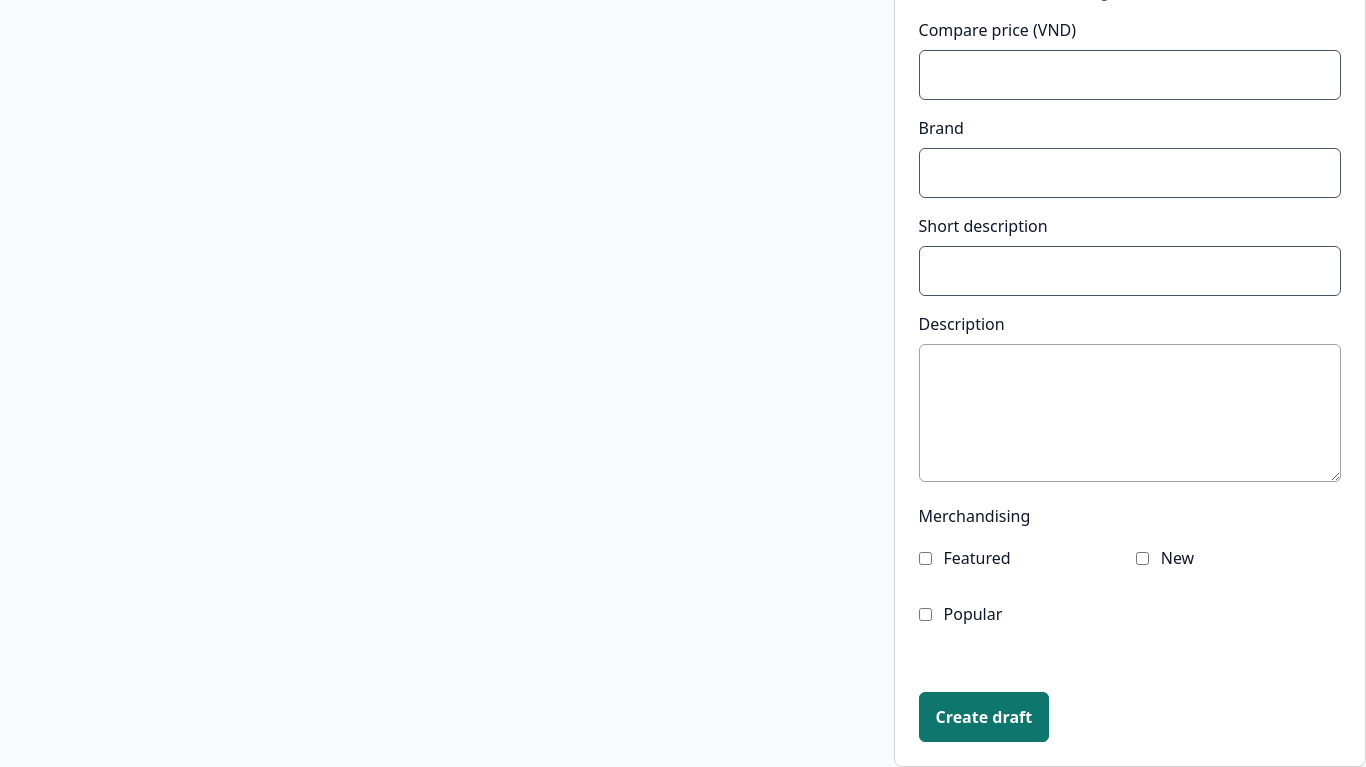
Test case: admin product manager › covers empty state, validation, and exact-price draft creation
(page scrolled)
Click the button "Create draft" at coordinates (984, 717), box [918,692,1049,742]
(page scrolled)
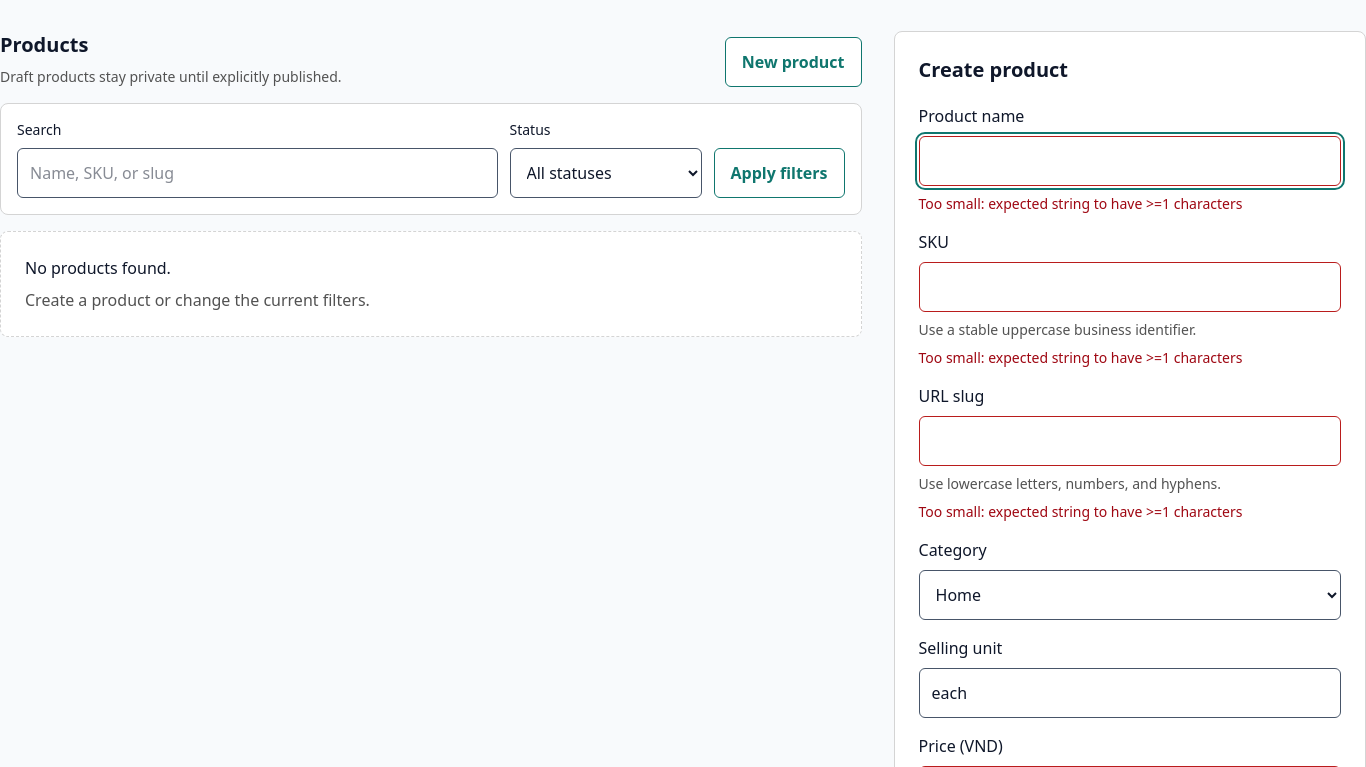
Type "Desk lamp" into the field labelled "Product name" at coordinates (1130, 161), box [918,136,1341,186]
Type "MHB-OPS-001" into the field labelled "SKU" at coordinates (1130, 287), box [918,262,1341,312]
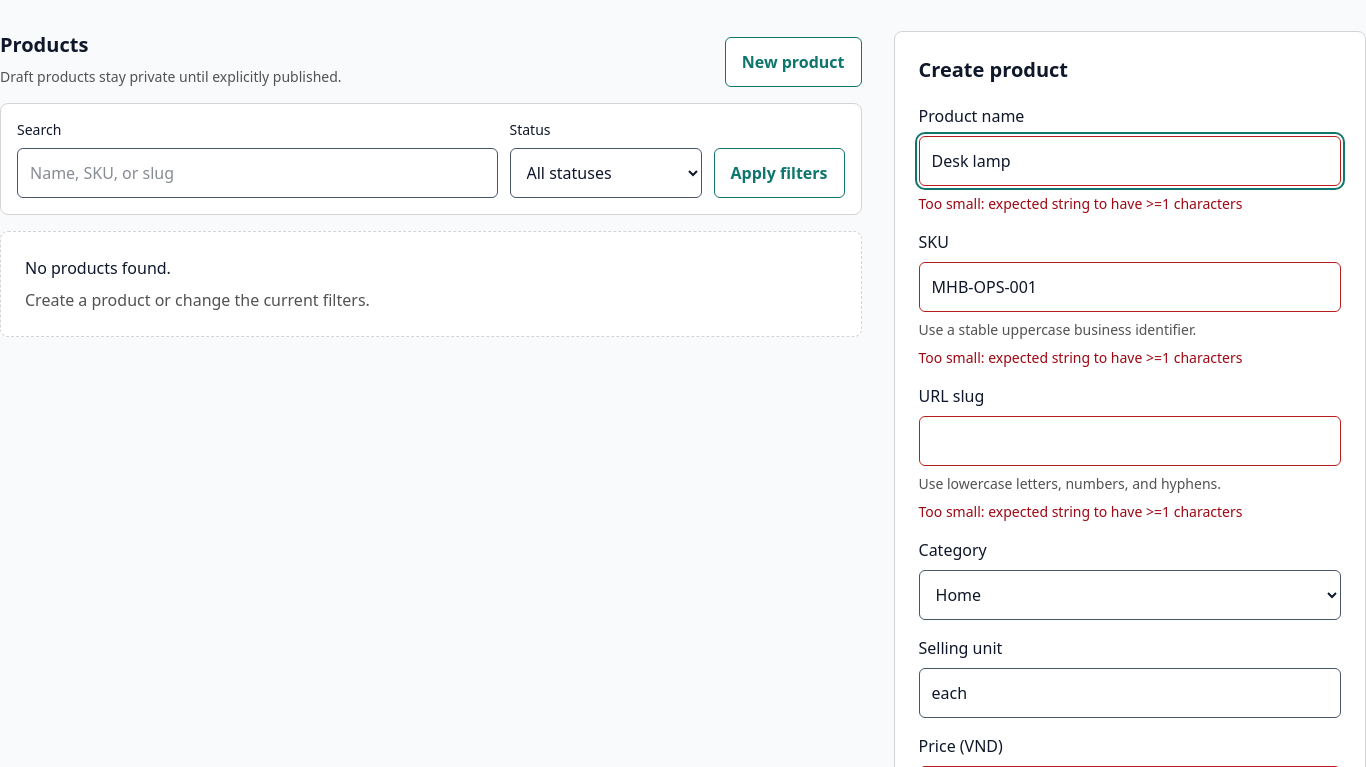
Type "desk-lamp" into the field labelled "URL slug" at coordinates (1130, 441), box [918,416,1341,466]
(page scrolled)
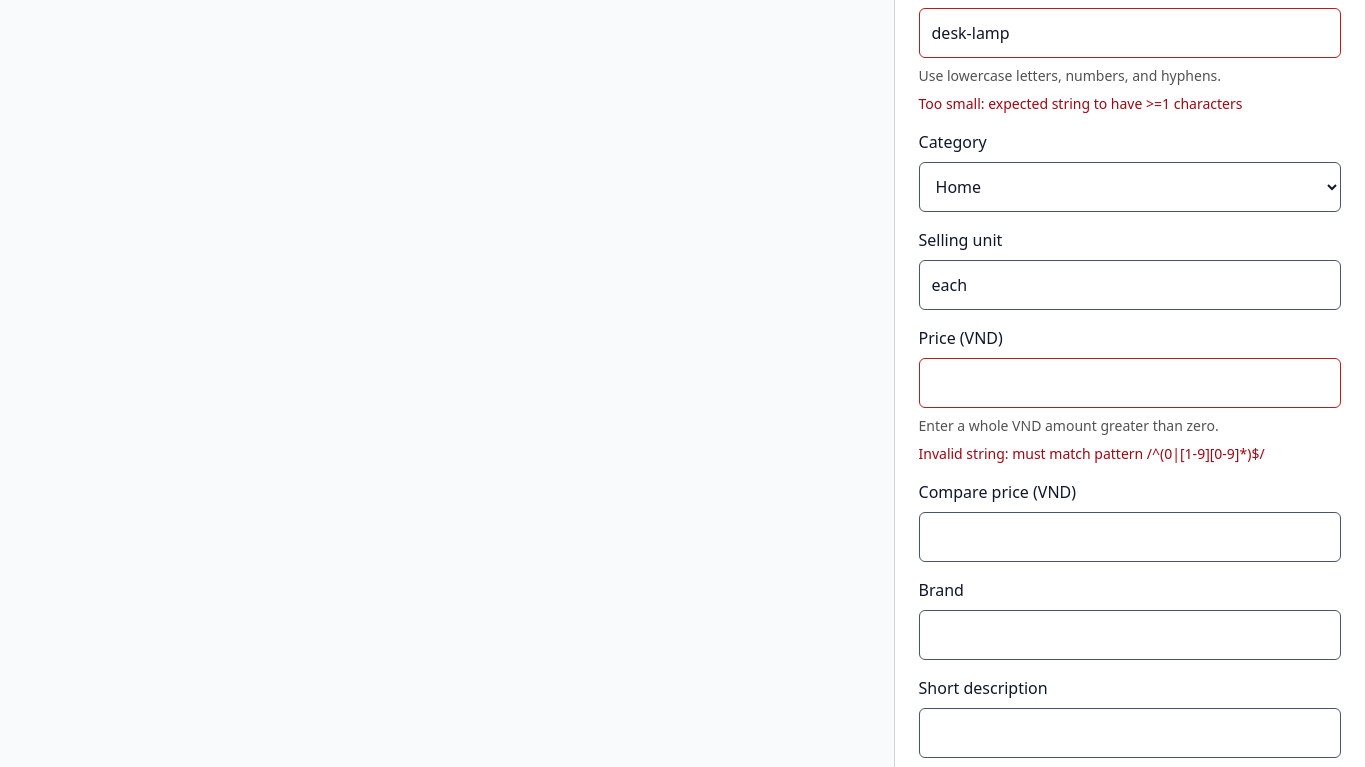
Type "349000" into the field labelled "Price (VND)" at coordinates (1130, 383), box [918,358,1341,408]
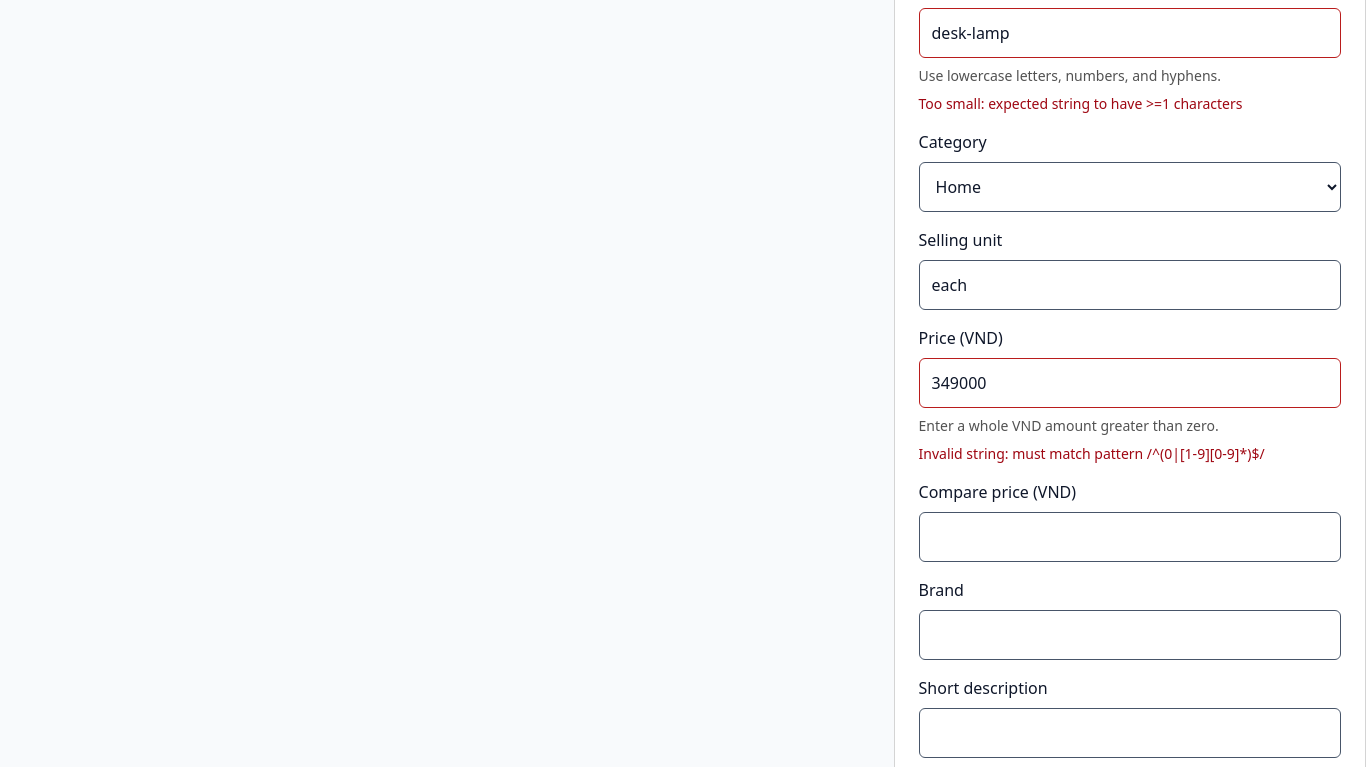
Type "399000" into the field labelled "Compare price (VND)" at coordinates (1130, 537), box [918,512,1341,562]
(page scrolled)
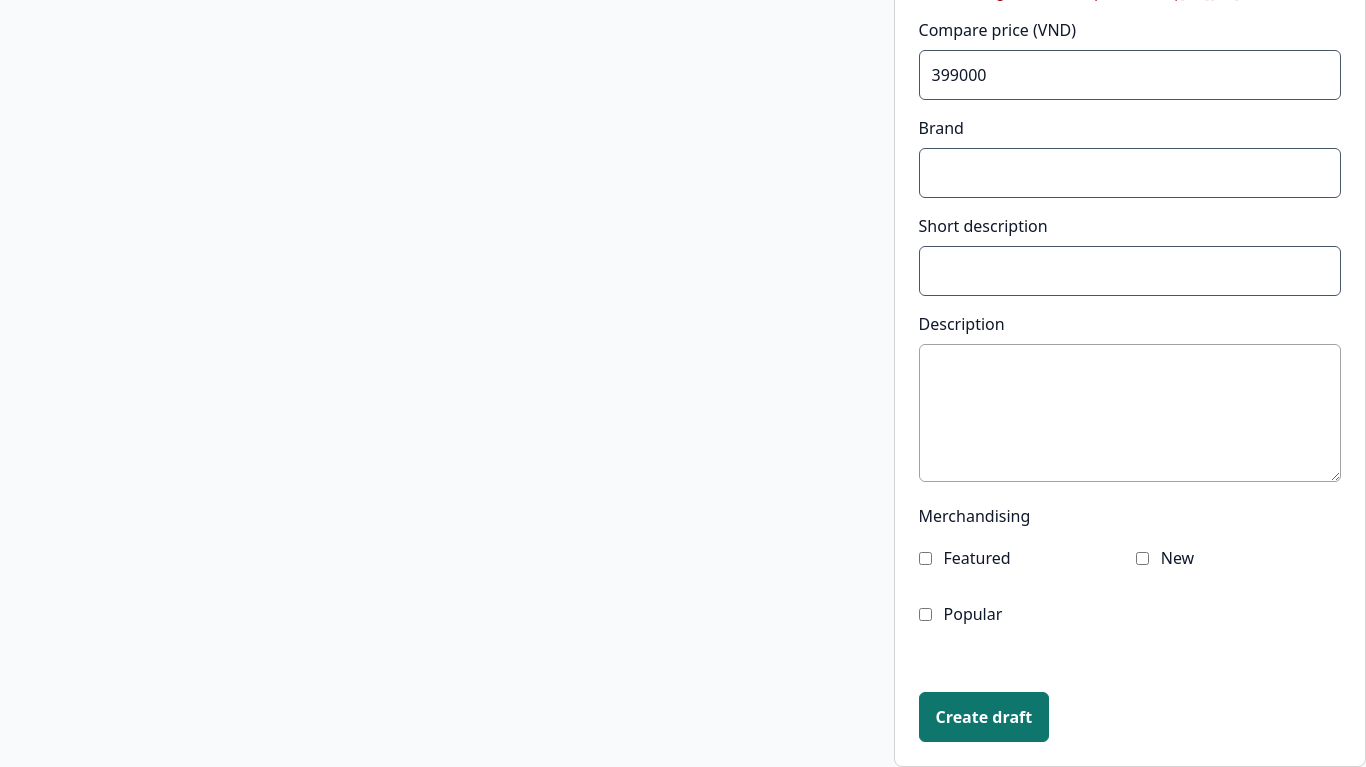
Click the button "Create draft" at coordinates (984, 717), box [918,692,1049,742]
(page scrolled)
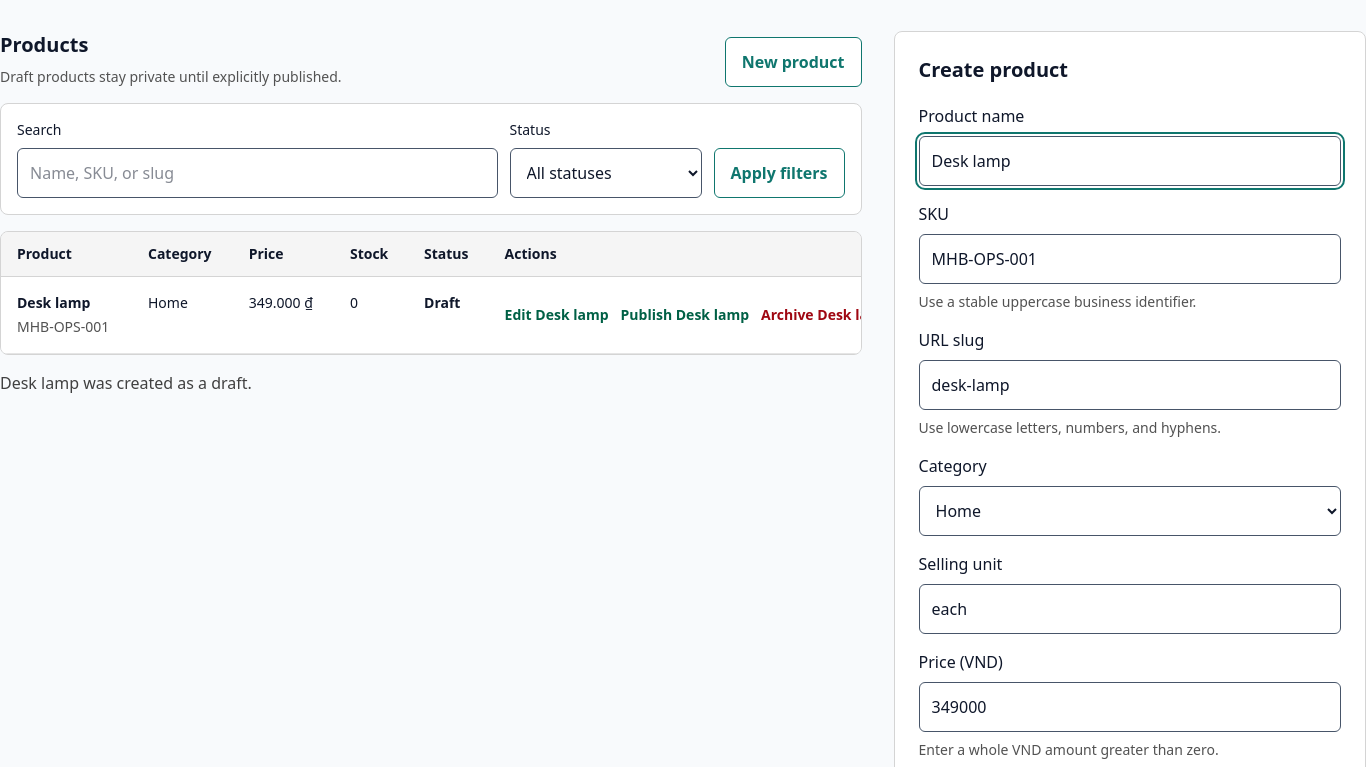
Expected: the text "Desk lamp was created as a draft." is shown, [0,372,252,394]
Expected: the column heading "Desk lamp MHB-OPS-001" is shown, [1,277,132,354]
